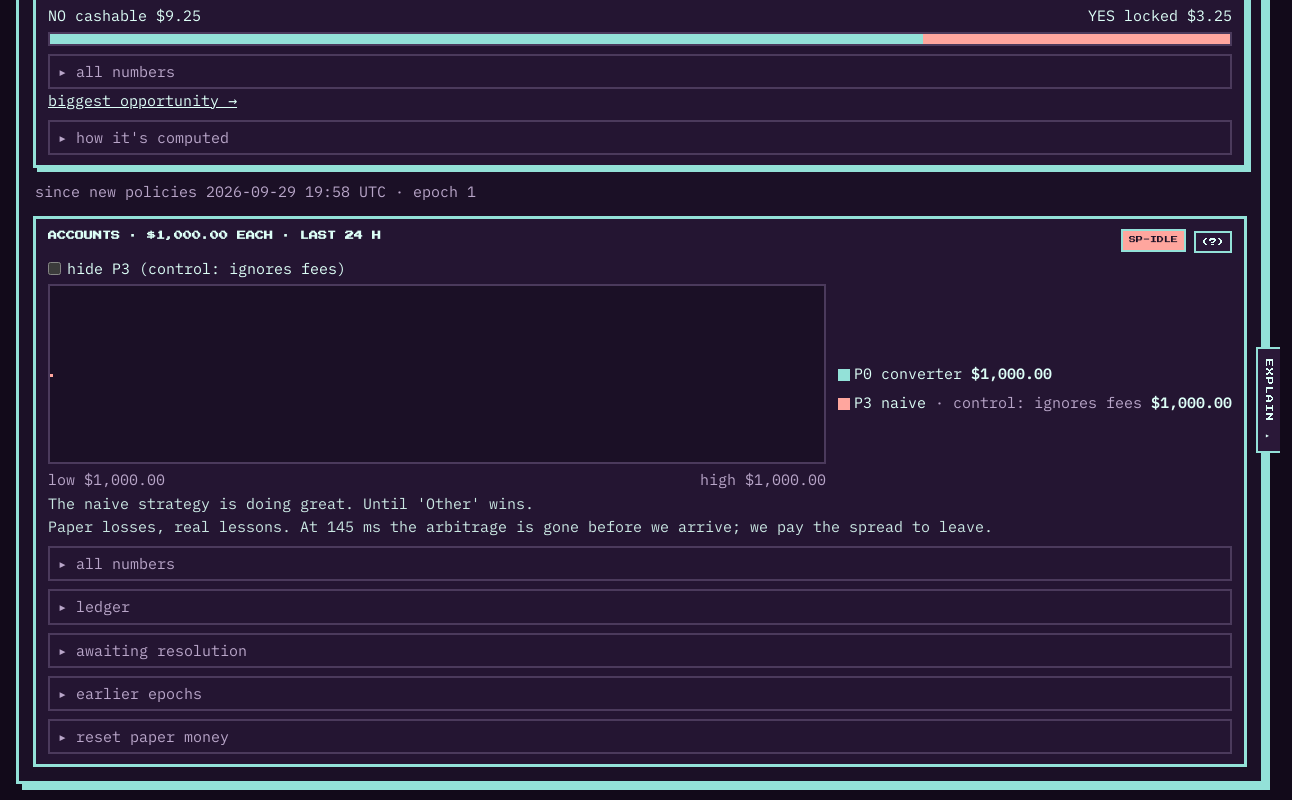
Scenario: pages publish, rows select (spec 7a §9.3) › a Paper position is selectable from the keyboard: its market is a button (focus + Enter)
This screenshot has width=1292, height=800.
(page scrolled)
Click the heading "awaiting resolution" at (162, 650), box [76,641,247,660]
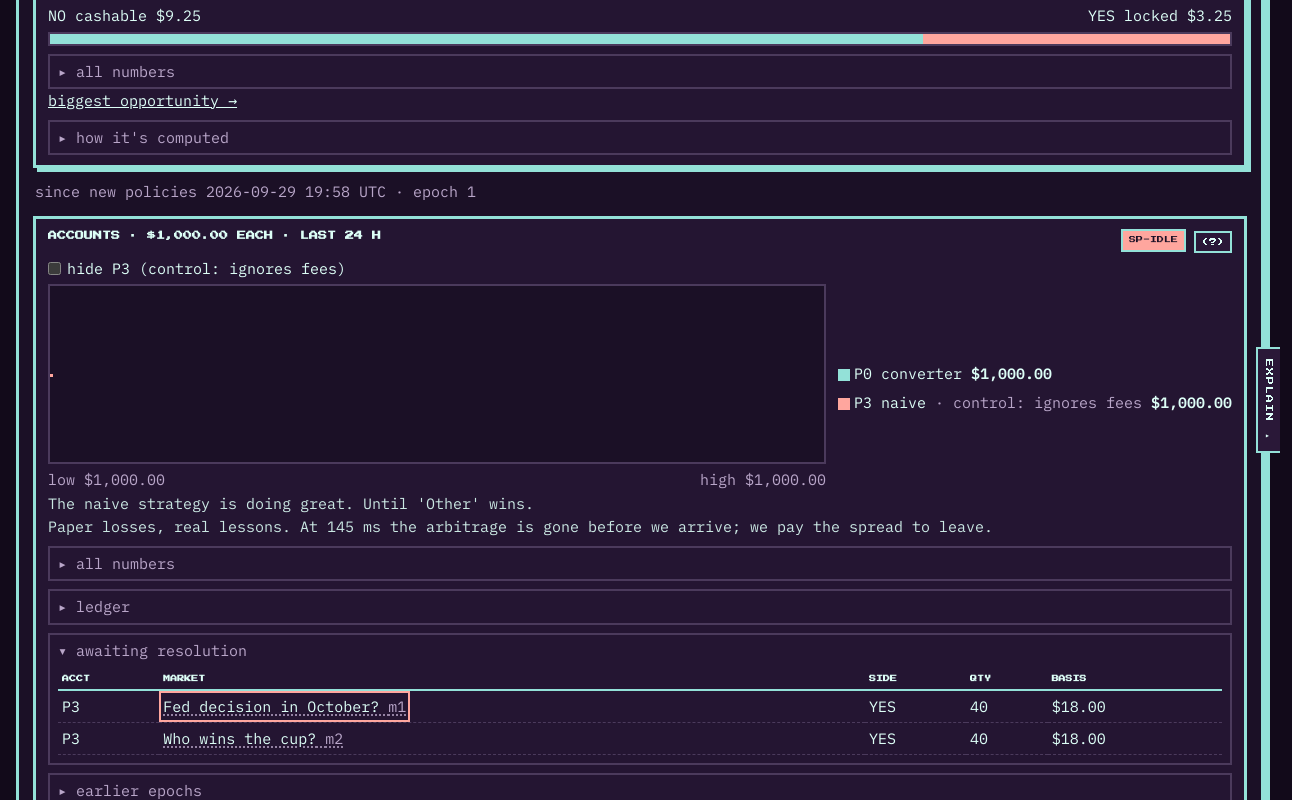
Press Enter
Click the button "EXPLAIN ▸" at (1268, 400), box [1256,347,1280,453]
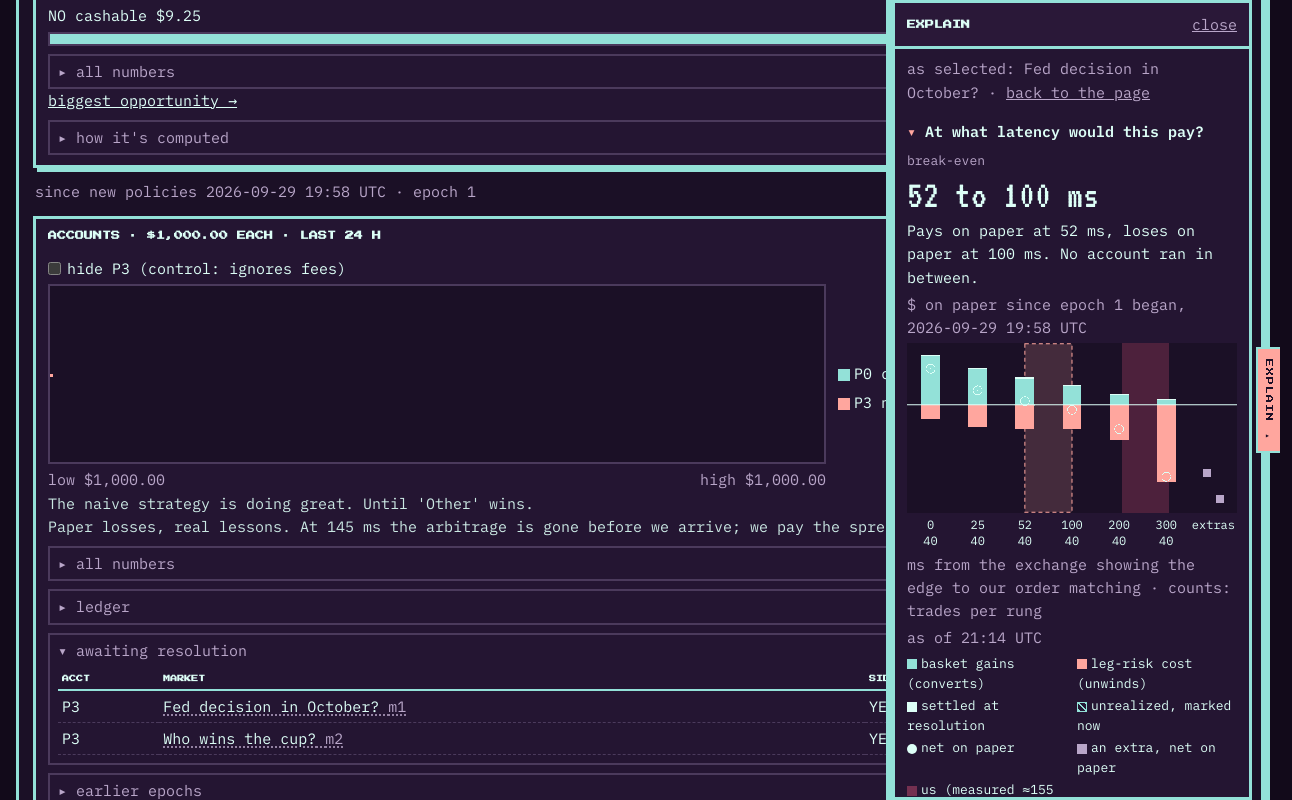
Result: the text "as selected: Fed decision in October? · back to the page" is shown at [907,59,1159,104]
